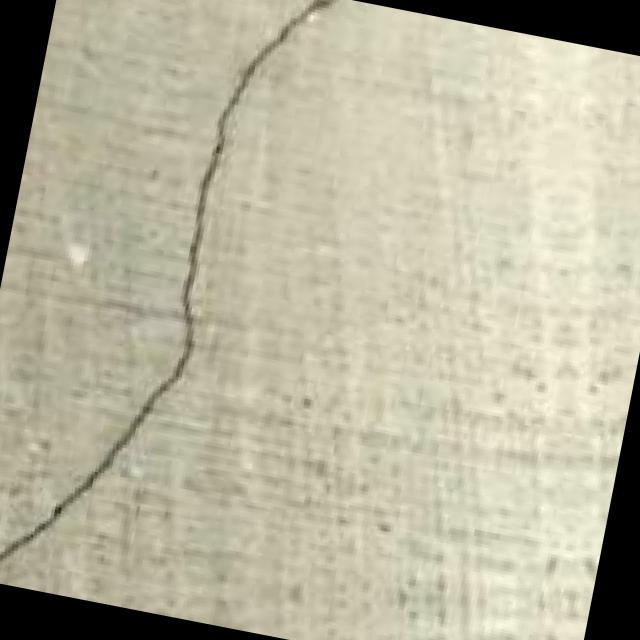crack: (0, 0, 337, 622)
